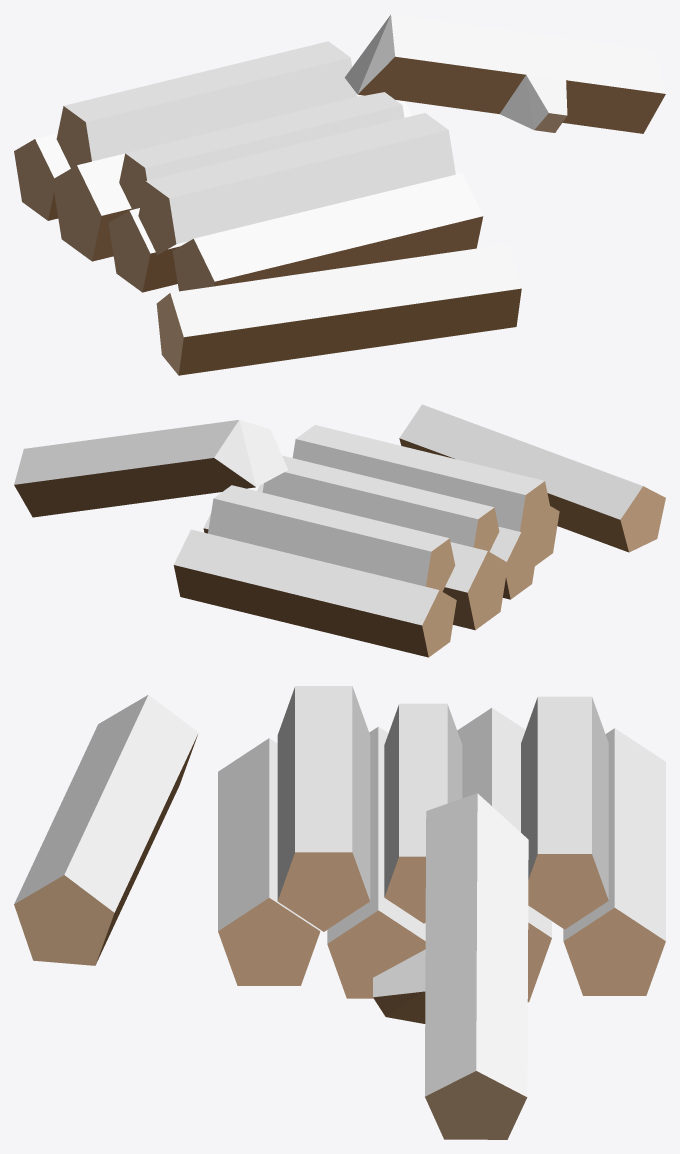
Rendered from Pine_Firewood_Pile_Snow_02_LOD.fbx.
The picture shows the model from 3 angles, top to bottom: view 1: azimuth 30°, elevation 25°; view 2: azimuth 150°, elevation 25°; view 3: azimuth 270°, elevation 25°; orthographic projection. The views are drawn at different scales.
Visible parts, largest first — view 1: Pine_Firewood_Pile_Snow_02_LOD0; view 2: Pine_Firewood_Pile_Snow_02_LOD0; view 3: Pine_Firewood_Pile_Snow_02_LOD0.
Part boxes in pixels (left/top/right/bottom): Pine_Firewood_Pile_Snow_02_LOD0: left=14, top=14, right=665, bottom=375; Pine_Firewood_Pile_Snow_02_LOD0: left=14, top=404, right=665, bottom=657; Pine_Firewood_Pile_Snow_02_LOD0: left=14, top=686, right=665, bottom=1139.
Size of what is drawn, in the model's own units: 113 by 29.1 by 83.97.
